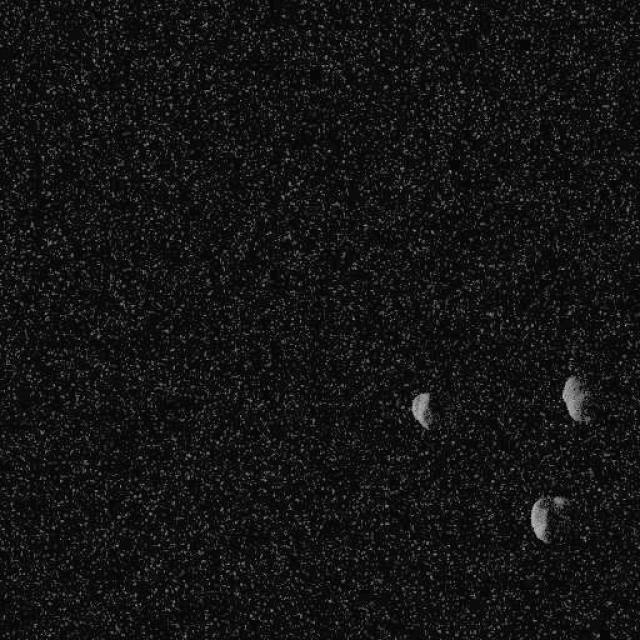D2: (529, 494, 569, 544), (560, 374, 592, 424), (410, 391, 432, 430)
